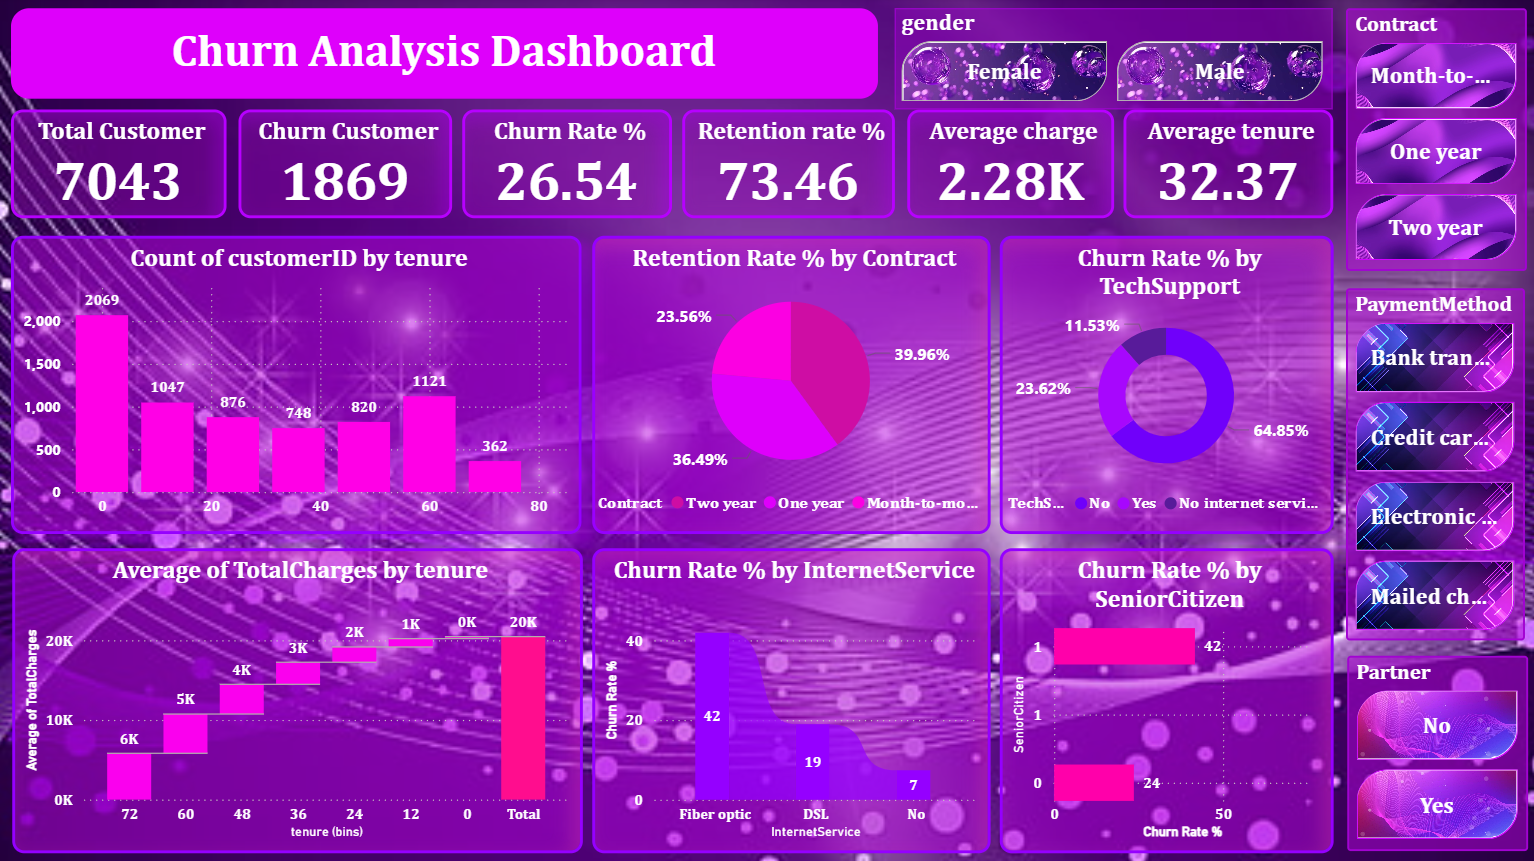

This screenshot's page, from the dashboard's own definition file:
{"tool":"powerbi","page":{"name":"Page 2","canvas":[1280,720],"ordinal":1},"visuals":[{"type":"card","title":"Total Customer","fields":{"Values":["churn dataset.Total customer"]},"box":[12.8,93,179.1,90.7],"z":0},{"type":"card","title":"Churn Customer","fields":{"Values":["churn dataset.churn customer"]},"box":[201.2,93,177.9,90.7],"z":1000},{"type":"card","title":"Churn Rate %","fields":{"Values":["churn dataset.Churn Rate %"]},"box":[387.2,93,174.4,90.7],"z":2000},{"type":"card","title":"Retention rate %","fields":{"Values":["churn dataset.Retention Rate %"]},"box":[570.9,93,176.7,90.7],"z":3000},{"type":"card","title":"Average tenure","fields":{"Values":["Avg(churn dataset.tenure)"]},"box":[937.2,93,174.4,90.7],"z":4000},{"type":"donutChart","fields":{"Y":["churn dataset.Churn Rate %"],"Category":["churn dataset.TechSupport"]},"box":[834.3,198.5,277.8,248.2],"z":5000},{"type":"pieChart","fields":{"Category":["churn dataset.Contract"],"Y":["churn dataset.Retention Rate %"]},"box":[495.4,198.8,331.4,247.7],"z":6000},{"type":"columnChart","title":"Count of customerID by tenure","fields":{"Category":["churn dataset.tenure (bins)"],"Y":["CountNonNull(churn dataset.customerID)"]},"box":[12.8,198.8,474.4,247.7],"z":7000},{"type":"barChart","fields":{"Category":["churn dataset.SeniorCitizen"],"Y":["churn dataset.Churn Rate %"]},"box":[834.3,458.3,277.8,253.5],"z":8000},{"type":"ribbonChart","fields":{"Y":["churn dataset.Churn Rate %"],"Category":["churn dataset.InternetService"]},"box":[495.4,458.1,331.4,253.5],"z":9000},{"type":"card","title":"Average charge","fields":{"Values":["Avg(churn dataset.TotalCharges)"]},"box":[758.1,93,172.1,90.7],"z":10000},{"type":"textbox","box":[12.8,9.3,720.9,75.6],"z":11000},{"type":"advancedSlicerVisual","fields":{"Values":["churn dataset.gender"]},"box":[747.7,9.3,364,83.7],"z":12000},{"type":"advancedSlicerVisual","fields":{"Values":["churn dataset.PaymentMethod"]},"box":[1122.1,241.9,148.8,293],"z":13000},{"type":"advancedSlicerVisual","fields":{"Values":["churn dataset.Contract"]},"box":[1122.1,9.3,150,218.6],"z":14000},{"type":"advancedSlicerVisual","fields":{"Values":["churn dataset.Partner"]},"box":[1123.3,547.7,150,162.8],"z":15000},{"type":"waterfallChart","title":"Average of TotalCharges by tenure ","fields":{"Category":["churn dataset.tenure (bins)"],"Y":["Avg(churn dataset.TotalCharges)"]},"box":[13.2,458.7,474.3,253.4],"z":16000}]}

Visuals, with their boxes in screenshot pixels (x1, y1, x2, y2), scaled from the page's 1280x720 canvas onto the 1534x861 screenshot:
"Total Customer" card: bbox=(15, 111, 230, 220)
"Churn Customer" card: bbox=(241, 111, 454, 220)
"Churn Rate %" card: bbox=(464, 111, 673, 220)
"Retention rate %" card: bbox=(684, 111, 896, 220)
"Average tenure" card: bbox=(1123, 111, 1332, 220)
donutChart - churn dataset.Churn Rate % x churn dataset.TechSupport: bbox=(1000, 237, 1333, 534)
pieChart - churn dataset.Contract x churn dataset.Retention Rate %: bbox=(594, 238, 991, 534)
"Count of customerID by tenure" columnChart: bbox=(15, 238, 584, 534)
barChart - churn dataset.SeniorCitizen x churn dataset.Churn Rate %: bbox=(1000, 548, 1333, 851)
ribbonChart - churn dataset.Churn Rate % x churn dataset.InternetService: bbox=(594, 548, 991, 851)
"Average charge" card: bbox=(909, 111, 1115, 220)
textbox: bbox=(15, 11, 879, 102)
advancedSlicerVisual - churn dataset.gender: bbox=(896, 11, 1332, 111)
advancedSlicerVisual - churn dataset.PaymentMethod: bbox=(1345, 289, 1523, 640)
advancedSlicerVisual - churn dataset.Contract: bbox=(1345, 11, 1525, 273)
advancedSlicerVisual - churn dataset.Partner: bbox=(1346, 655, 1526, 850)
"Average of TotalCharges by tenure " waterfallChart: bbox=(16, 549, 584, 852)
